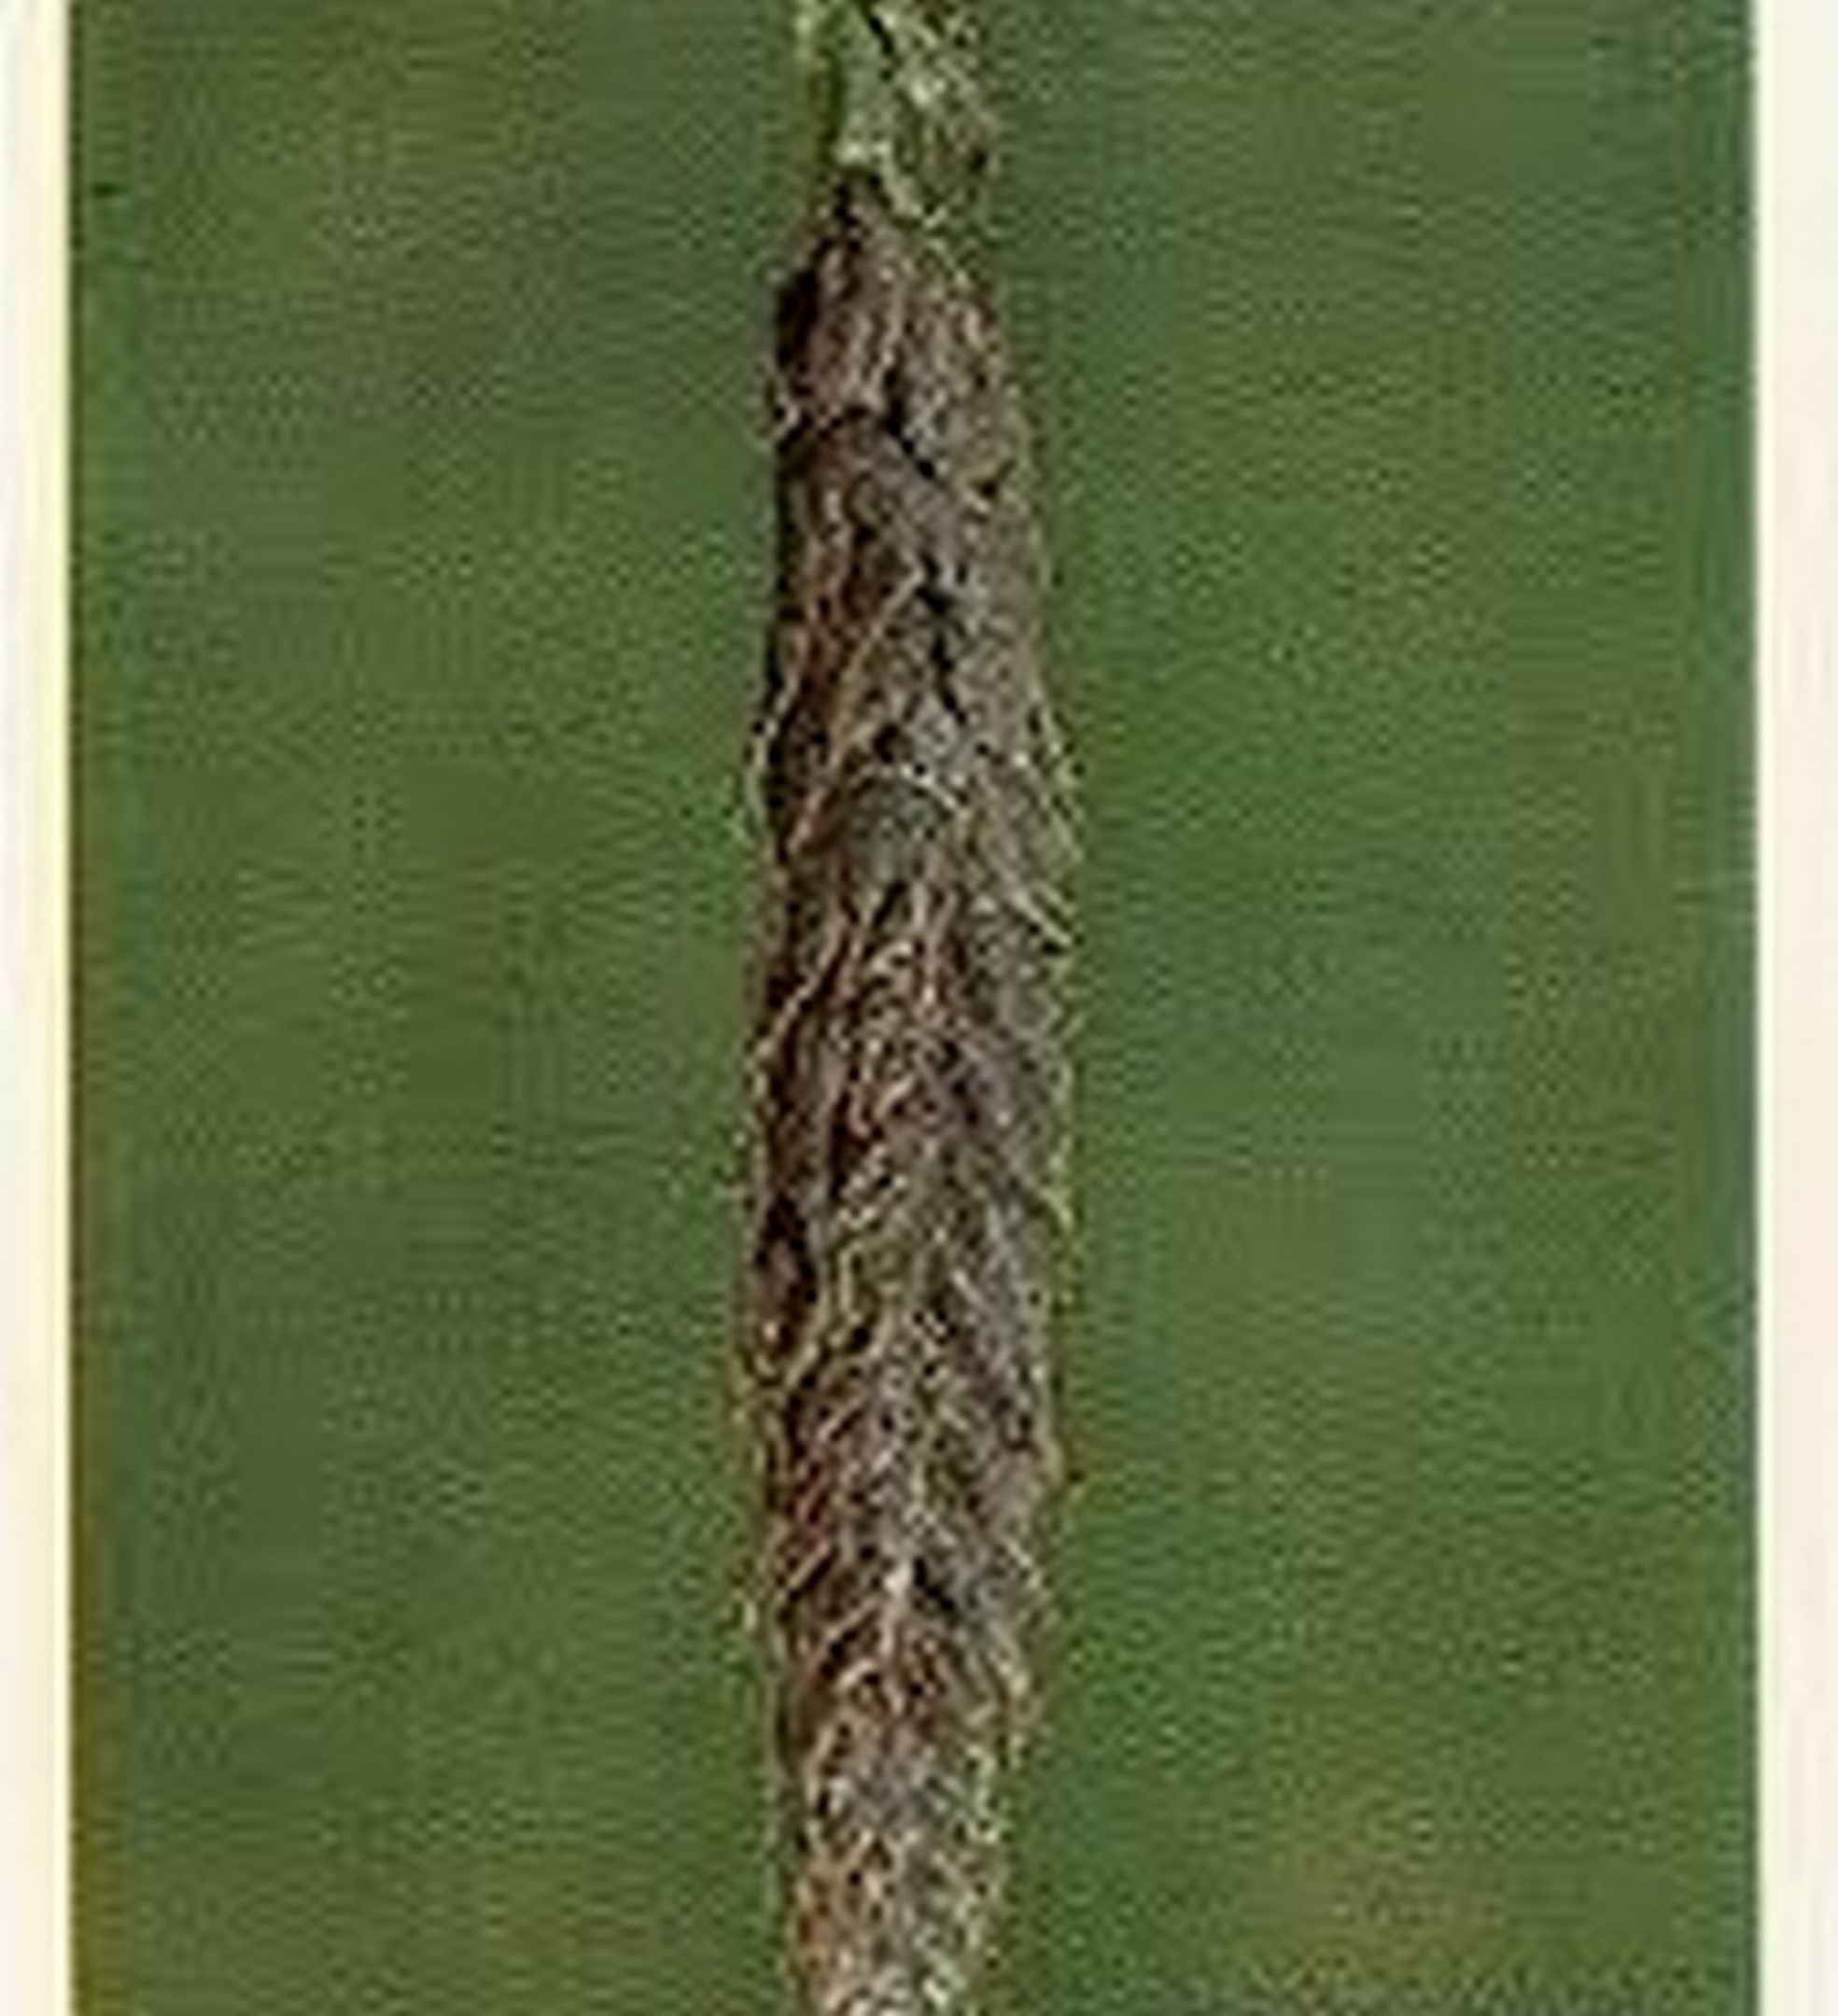Wheat Loose Smut: (647, 183, 1165, 2004)
